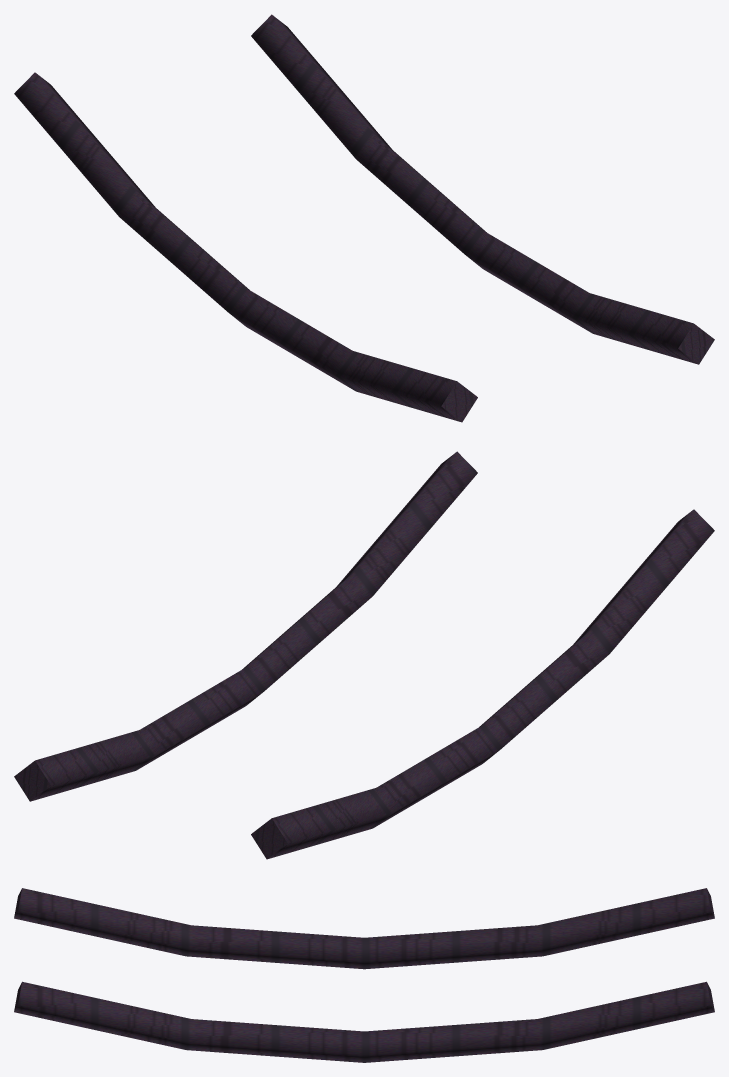
File: electricity-wires.raw.glb
3 views of the same model, one above another, from view 1: azimuth 30°, elevation 25°; view 2: azimuth 150°, elevation 25°; view 3: azimuth 270°, elevation 25° (orthographic). The views are drawn at different scales.
Parts seen in each view (by area): view 1: electricity-wires; view 2: electricity-wires; view 3: electricity-wires.
Boxes of the visible parts, x1=… form: electricity-wires: x1=14, y1=14, x2=714, y2=422; electricity-wires: x1=14, y1=451, x2=714, y2=859; electricity-wires: x1=14, y1=888, x2=714, y2=1062.
Bounding box in the file's own units: 2.93 × 1.02 × 8.
1 material, 1 textured.
